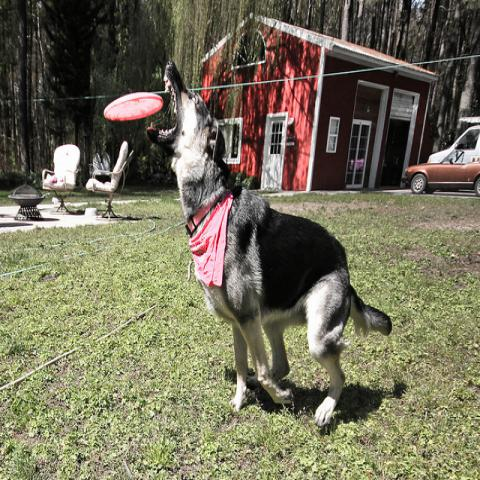car: (399, 142, 479, 196)
truck: (427, 124, 479, 164)
